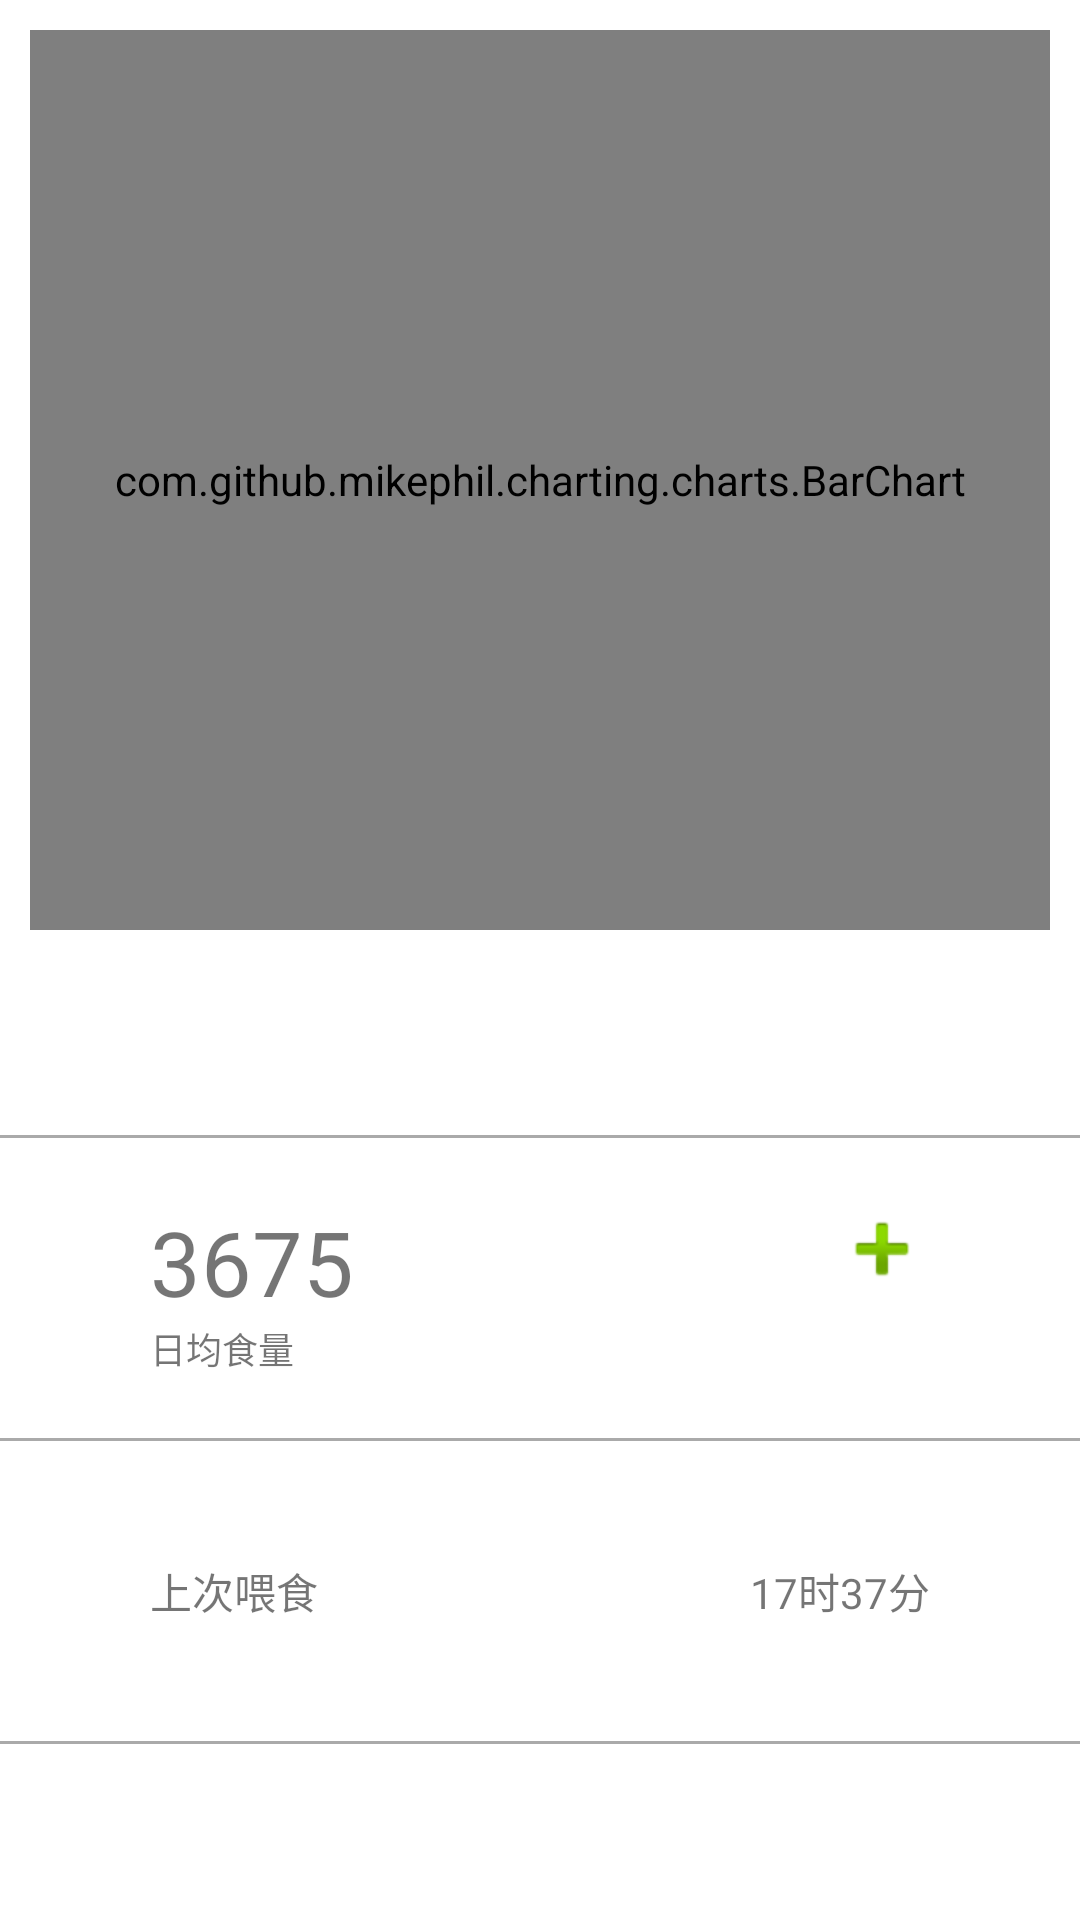

Named icons in this screenshot (1080x1920) and their centers, (x,y):
add: (882,1249)
